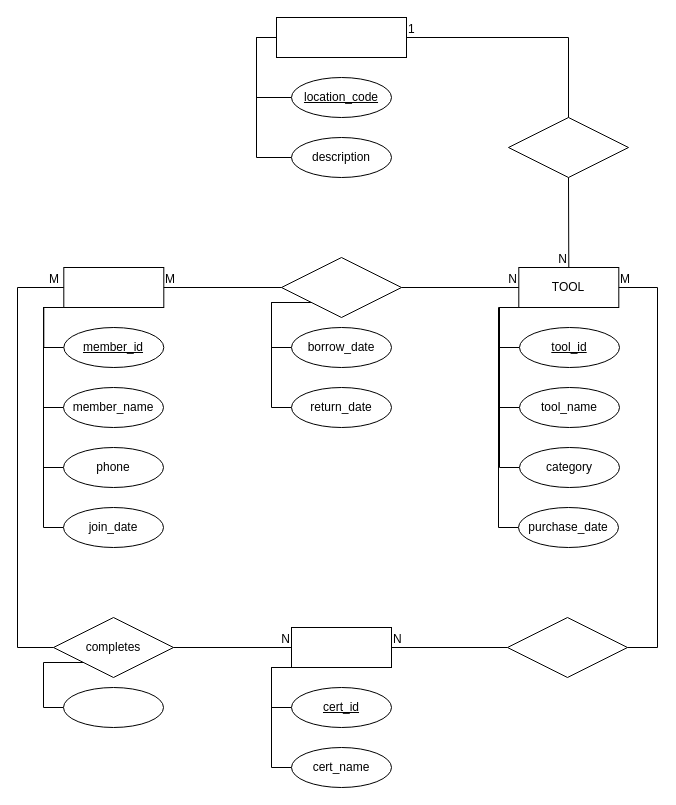
Some shapes in this 676 by 805 pixel diagram are drawn without their labels. Each missing label, with the centre of its shape:
borrows: [341,287]
CERTIFICATION: [341,647]
completion_date: [113,707]
MEMBER: [113,287]
requires: [567,647]
STORAGE_LOCATION: [341,37]
stores: [568,147]
